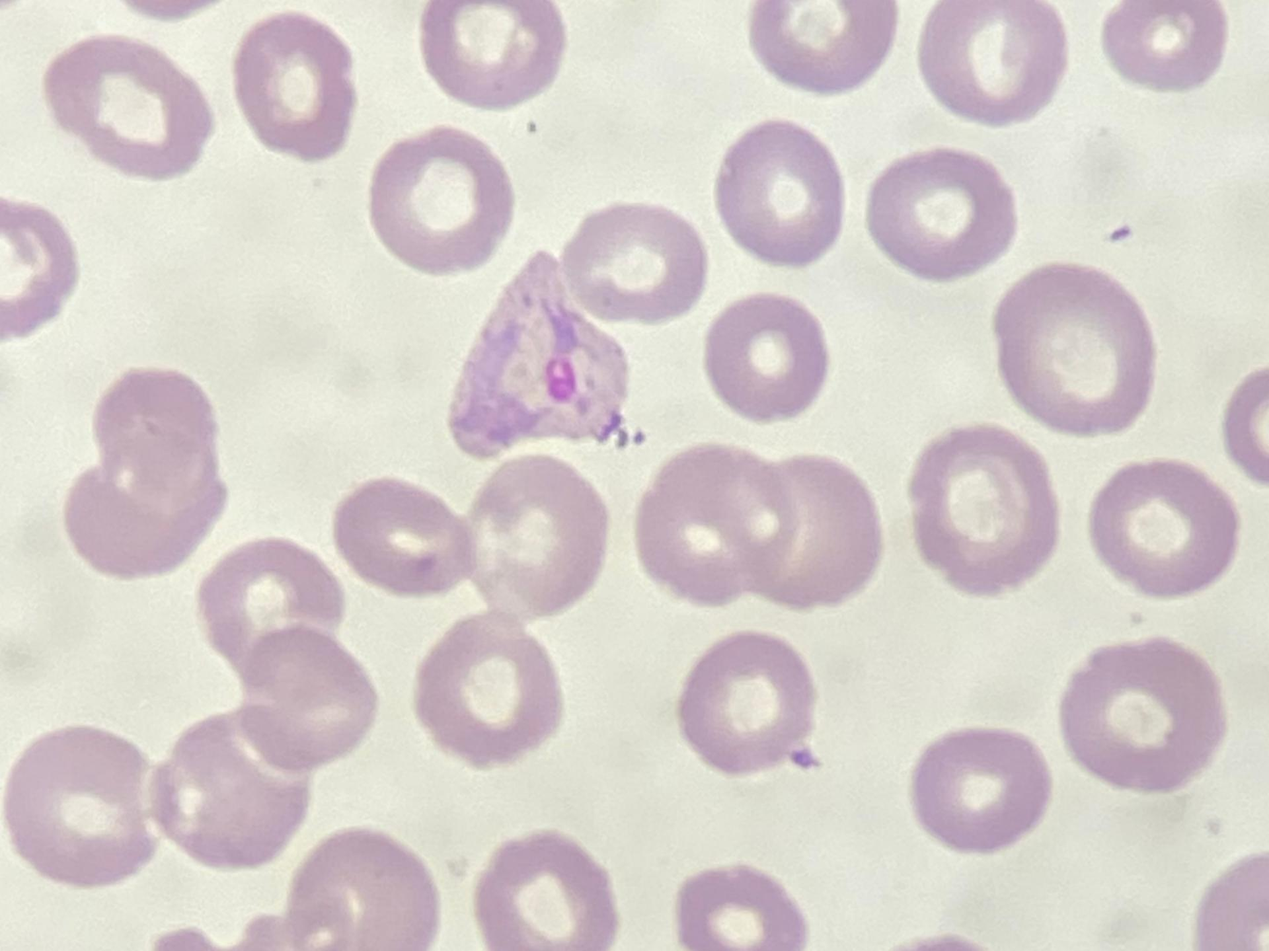Infected: (638, 489, 818, 698)
Uninfected: (117, 514, 271, 686), (40, 154, 205, 313), (1107, 61, 1264, 228), (208, 354, 362, 522), (960, 81, 1124, 236), (476, 344, 629, 505), (661, 324, 802, 498), (1054, 769, 1221, 912), (706, 179, 855, 333), (1044, 370, 1204, 508), (753, 676, 899, 824), (925, 270, 1071, 411), (894, 179, 1032, 325), (387, 344, 521, 494), (31, 354, 177, 489), (454, 175, 592, 317), (826, 0, 983, 123), (423, 683, 553, 830), (205, 824, 353, 951), (1051, 432, 1174, 583), (563, 622, 711, 747), (909, 788, 1034, 936), (649, 0, 797, 121), (216, 93, 357, 220), (256, 673, 399, 796), (793, 352, 932, 468), (444, 528, 567, 657), (706, 840, 846, 951), (372, 851, 522, 951), (463, 0, 596, 88), (41, 859, 165, 948)
